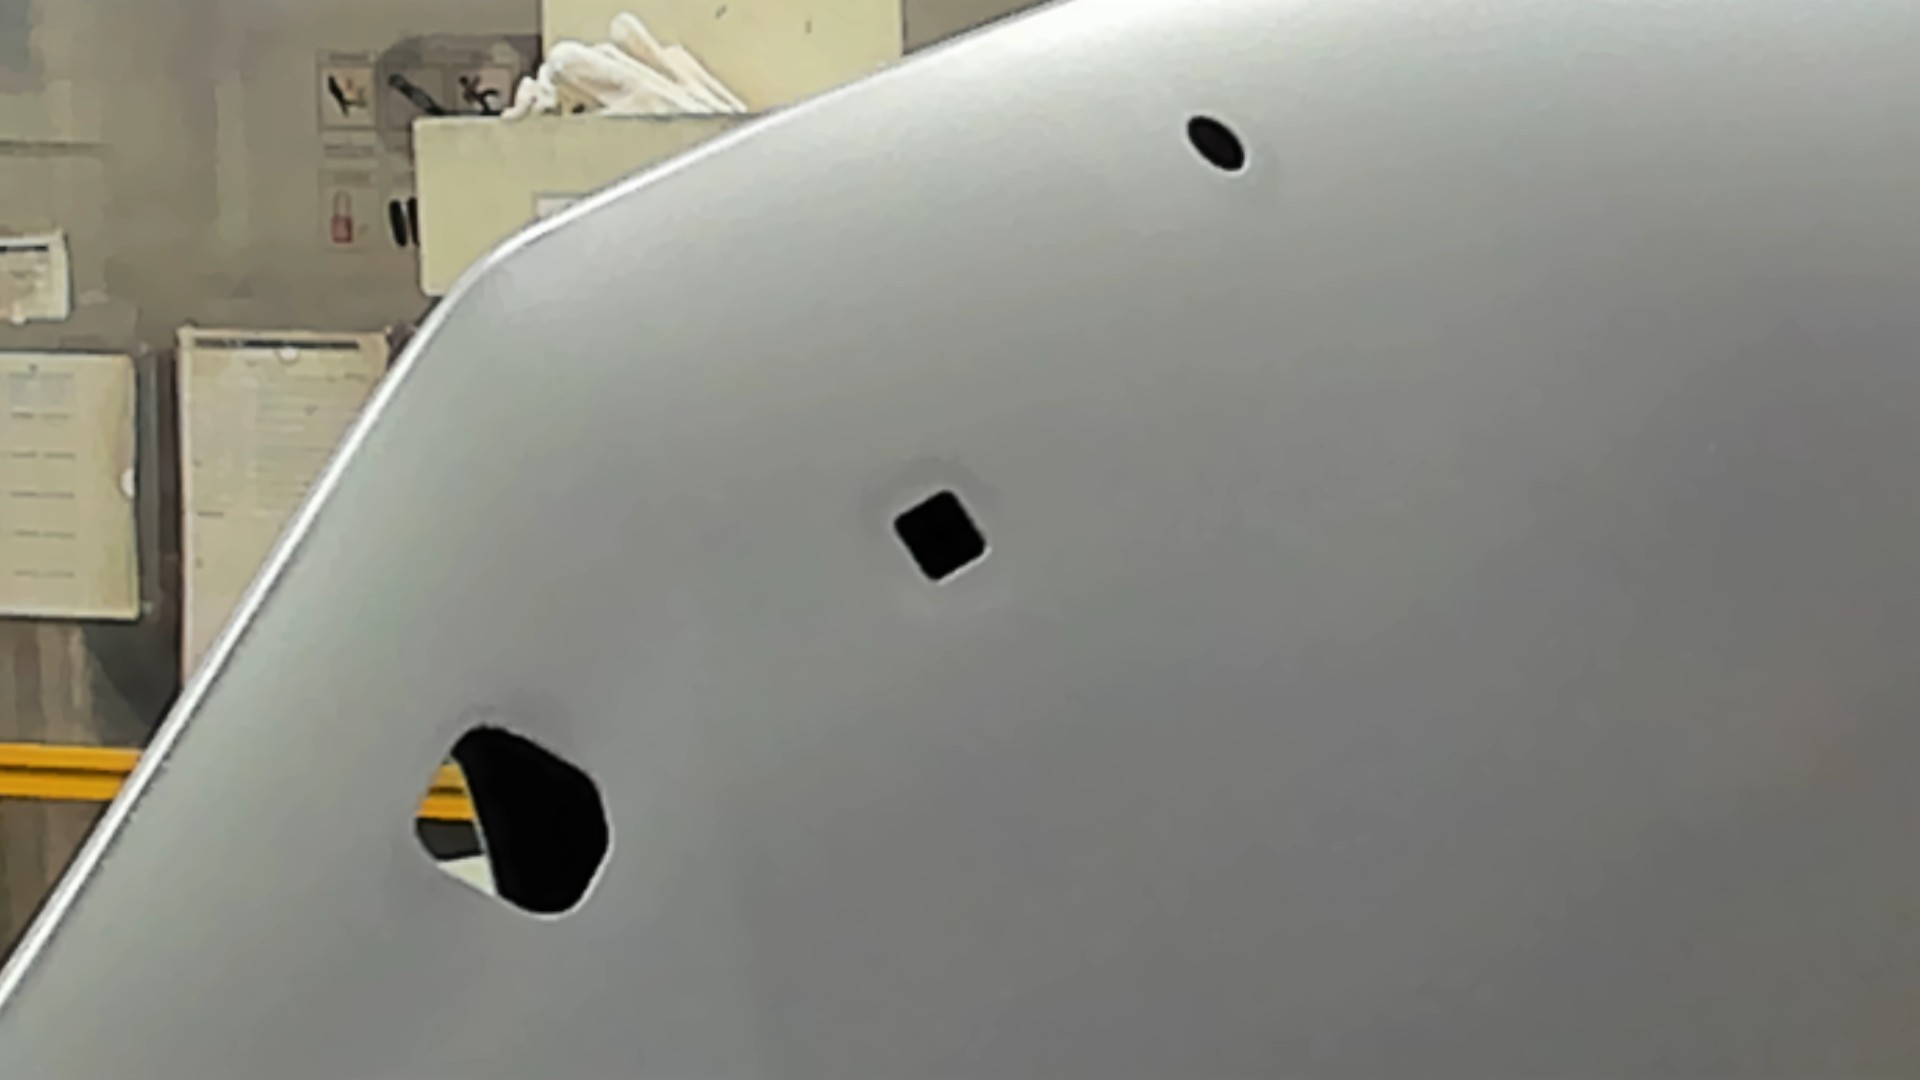capo: (1005, 189, 1920, 1080)
chico: (1182, 108, 1247, 177)
grande: (410, 717, 620, 928)
mediano: (887, 487, 996, 589)
